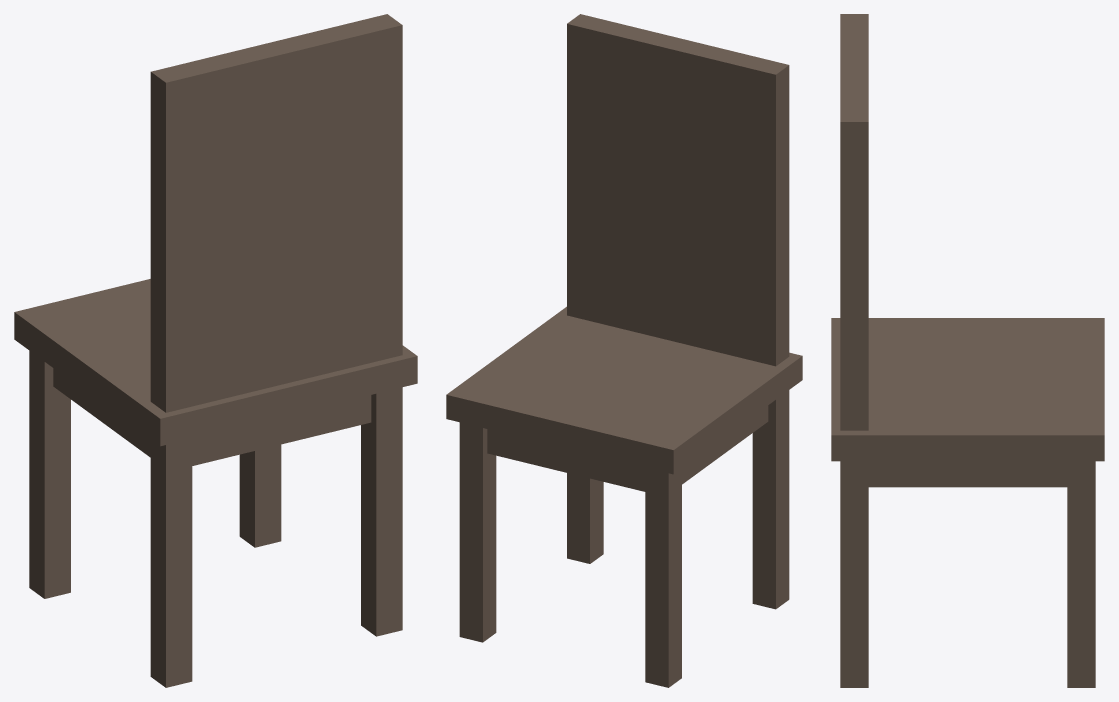
The model's file is SM_Chair.fbx.
3 renders of one model, left to right at view 1: azimuth 30°, elevation 25°; view 2: azimuth 150°, elevation 25°; view 3: azimuth 270°, elevation 25°, orthographic. The views are drawn at different scales.
Parts seen in each view (by area): view 1: Chair; view 2: Chair; view 3: Chair.
Part boxes in pixels (x1,y1,x2,y2): Chair: (14,14,417,687); Chair: (446,14,802,687); Chair: (831,14,1104,687).
Bounding box in the file's own units: 48.94 × 110 × 48.09.
